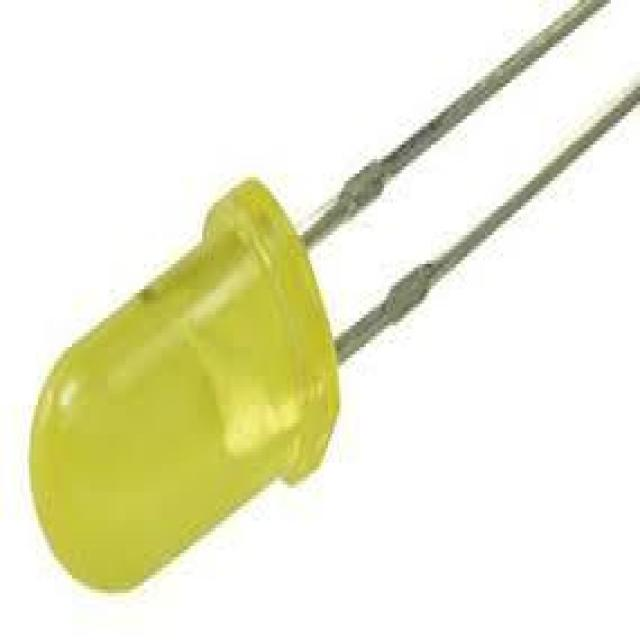Led: (32, 1, 639, 589)
